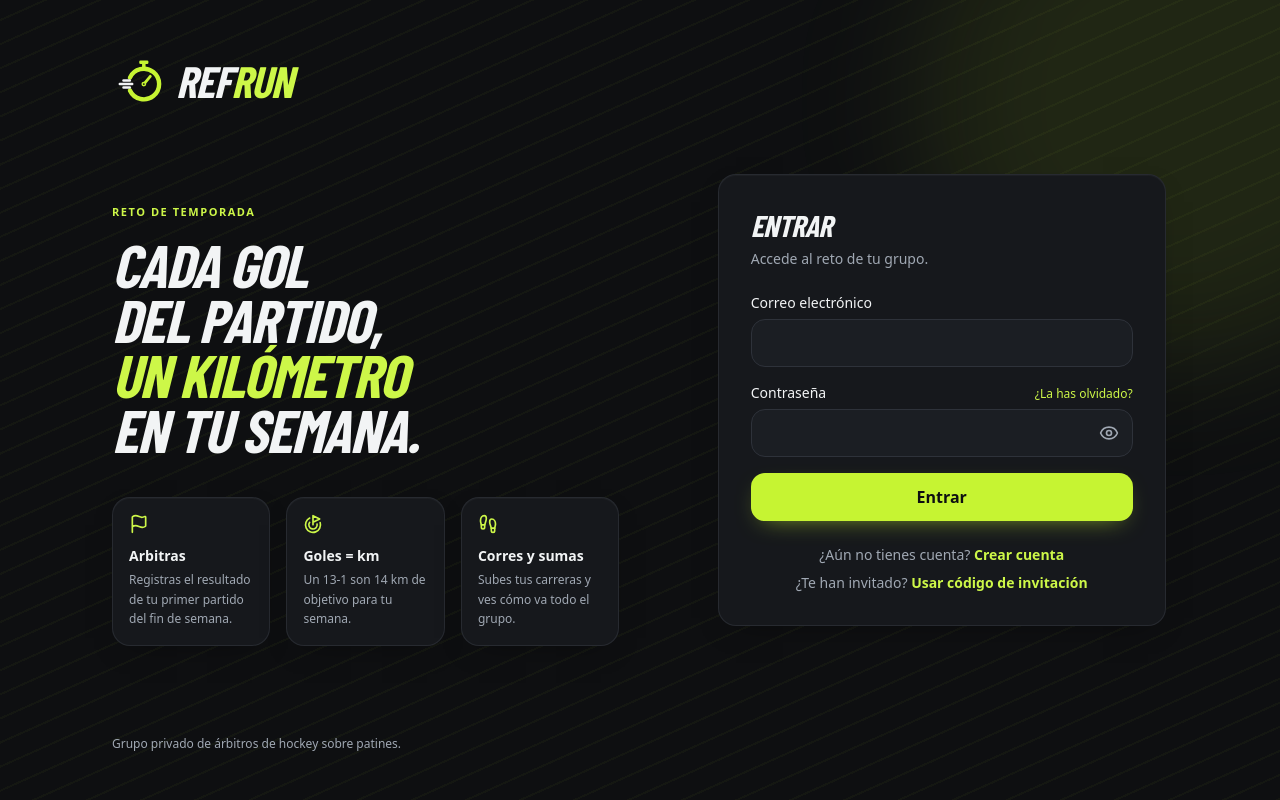
it: autenticación › inicia sesión y muestra errores comprensibles
The width and height of the screenshot is (1280, 800).
In the field labelled "Correo electrónico": (942, 343) [751, 319, 1133, 367], type "marta@example.test"
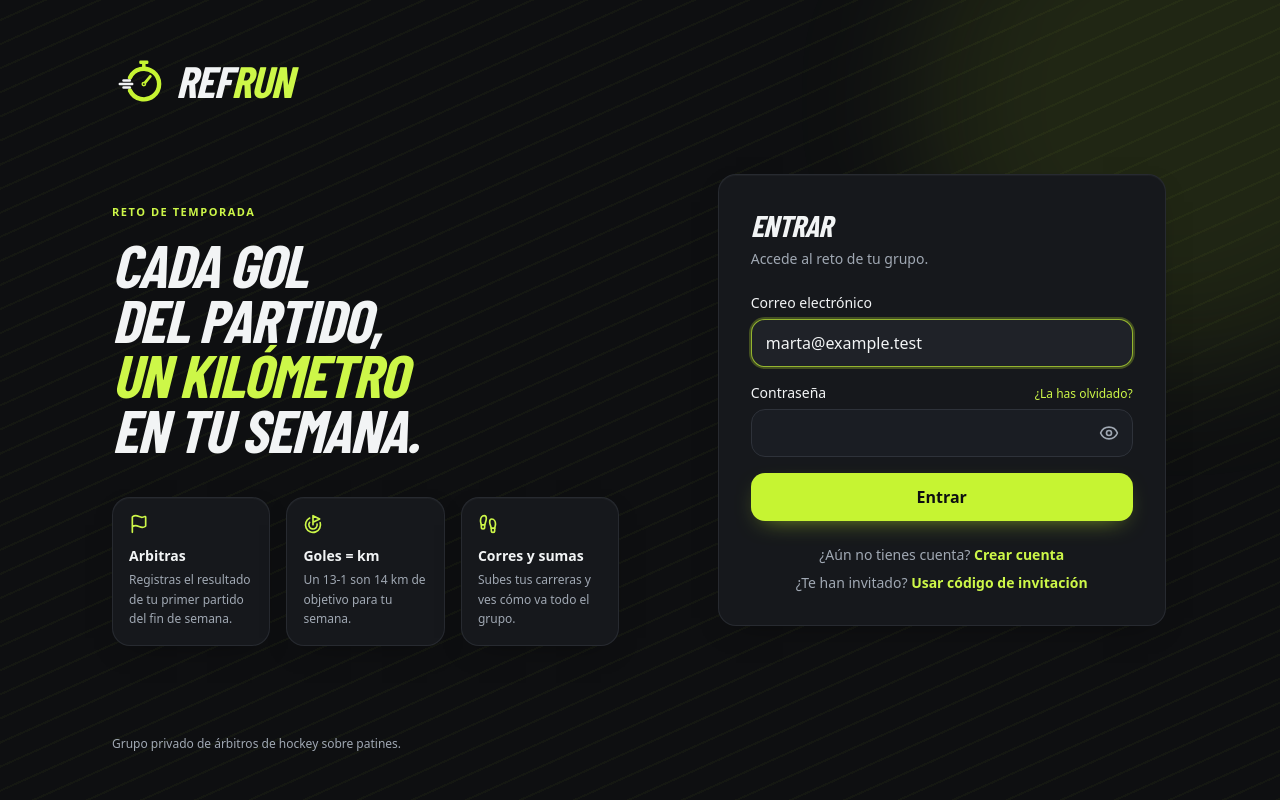
In the password field labelled "Contraseña": (942, 433) [751, 409, 1133, 457], type "secreta123"
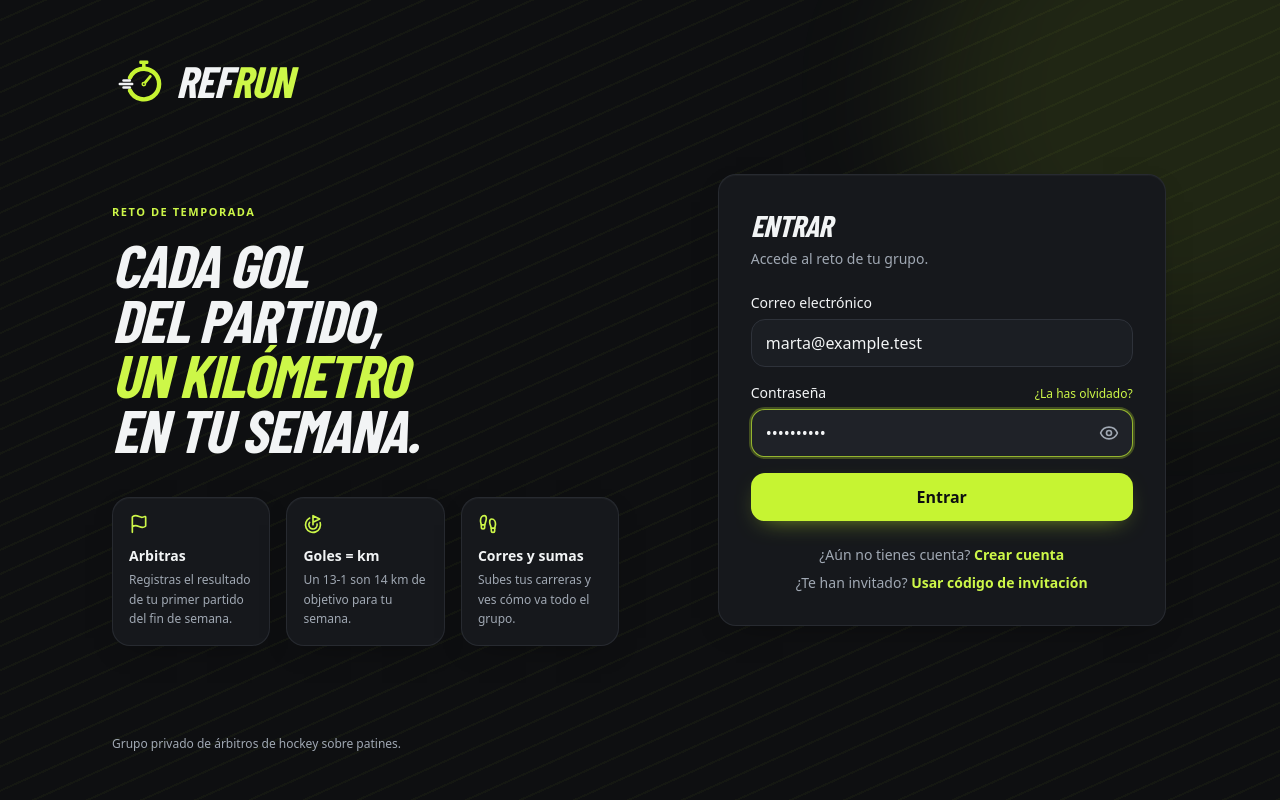
Click the button "Entrar": (942, 497) [751, 473, 1133, 521]
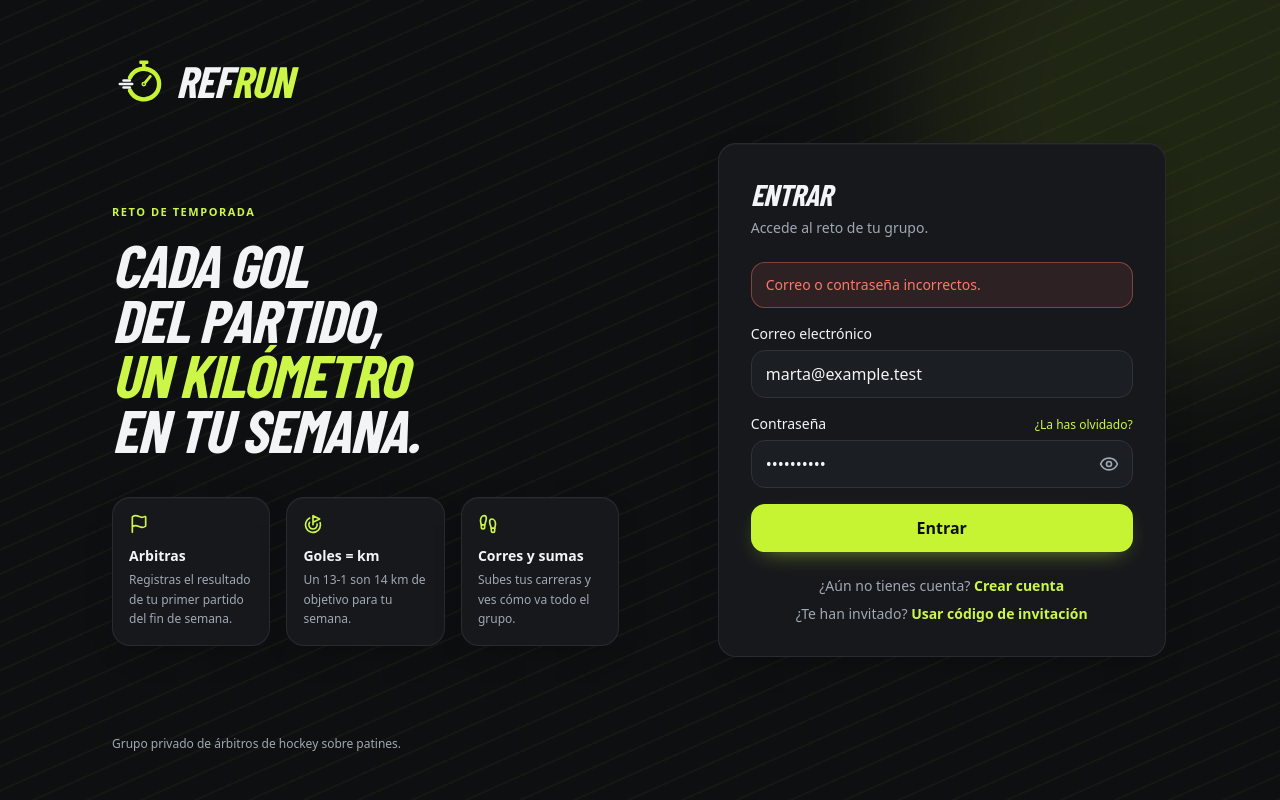
Expected: the message reads "Correo o contraseña incorrectos.", [766, 275, 981, 294]
